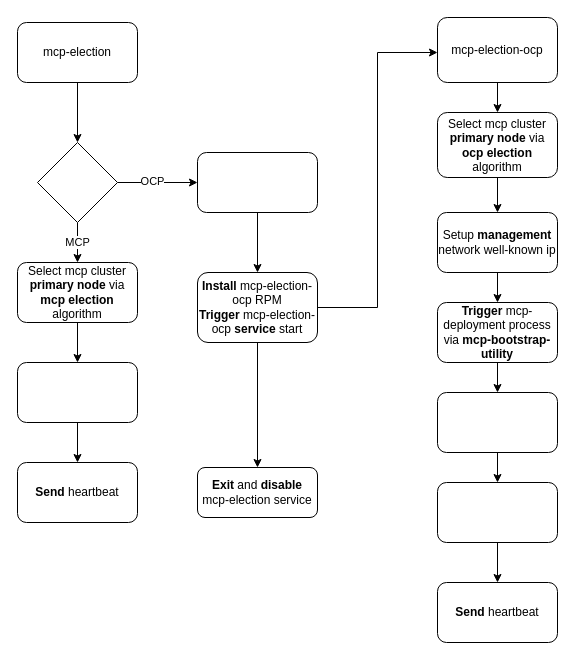
The diagram is 575 pixels wide and 660 high, and some of its shapes have lost their labels. The shapes that lost their labels are listed below. From the top down, each one's box as (x1, y1, x2, y2) in pixels, then its label:
(36, 142, 118, 222): Detect cloud intent
(196, 152, 318, 212): Get mcp-election-ocp RPM location via mcp-bootstrap-utility
(16, 362, 138, 422): Trigger mcp-deployment via mcp-bootstrap-utility
(436, 392, 558, 452): Get mcp-bootstrap-ocp-utility location via mcp-bootstrap-utility
(436, 482, 558, 542): Trigger ocp-deployment process via mcp-bootstrap-ocp-utility
